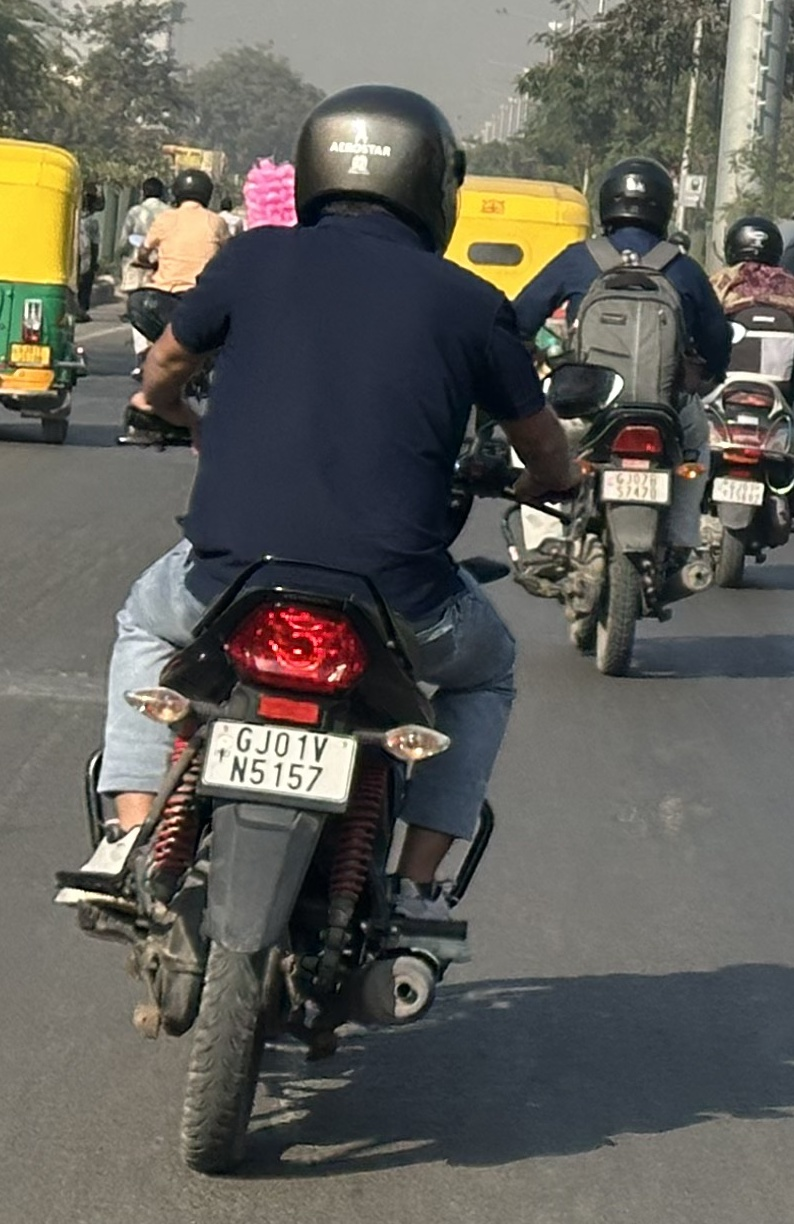BikeWithRider: (40, 72, 594, 1185), (485, 147, 741, 685), (685, 203, 794, 597)
Helmet: (277, 73, 478, 265), (582, 148, 689, 246), (712, 206, 792, 275), (161, 160, 221, 215)
